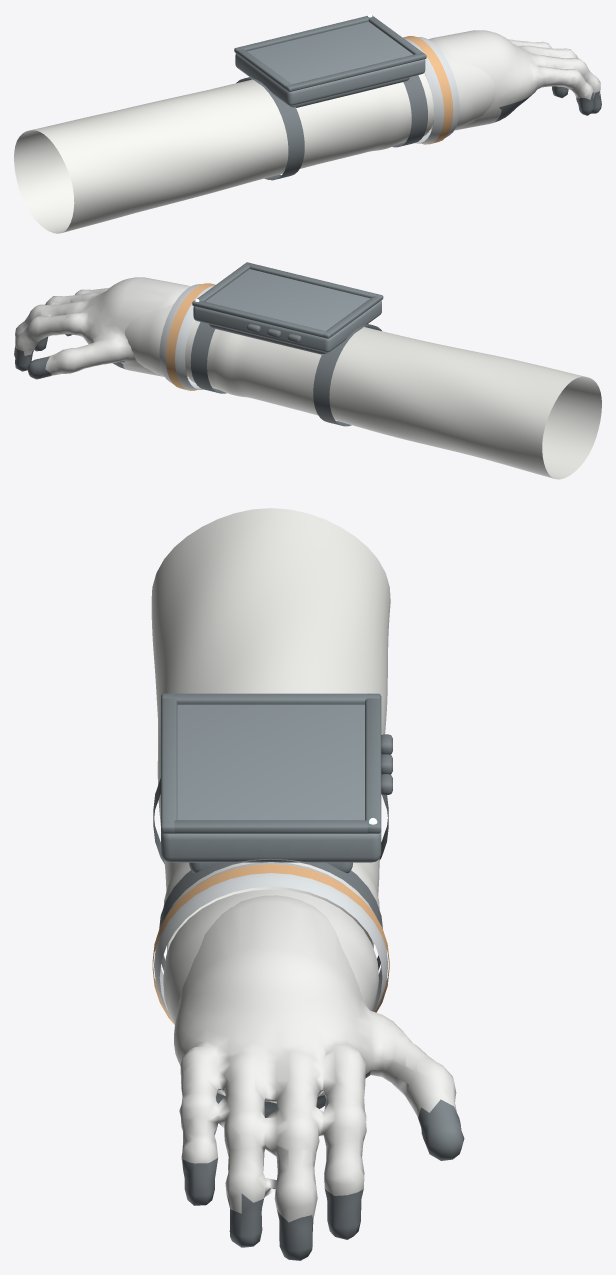
File: wrist_arm.glb
3 views of the same model, one above another, from view 1: azimuth 30°, elevation 25°; view 2: azimuth 150°, elevation 25°; view 3: azimuth 270°, elevation 25° (orthographic). The views are drawn at different scales.
Visible parts, largest first — view 1: sleeve_suit_fabric_white, pad_case_graphite, glove_fabric, glove_fabric.001, wrist_ring_satin_metal, strap_rubber, strap_rubber.001, wrist_band_orange, pad_bezel_graphite.001, pad_bezel_graphite, pad_bezel_graphite.003, pad_bezel_graphite.002 (+1 smaller); view 2: sleeve_suit_fabric_white, glove_fabric, pad_case_graphite, glove_fabric.001, wrist_ring_satin_metal, strap_rubber, strap_rubber.001, wrist_band_orange, pad_bezel_graphite, pad_bezel_graphite.001, pad_bezel_graphite.003, pad_bezel_graphite.002 (+1 smaller); view 3: glove_fabric, sleeve_suit_fabric_white, pad_case_graphite, glove_fabric.001, wrist_ring_satin_metal, pad_bezel_graphite.002, wrist_band_orange, pad_bezel_graphite.003, pad_bezel_graphite.001, pad_bezel_graphite, strap_rubber.001.
Part boxes in pixels (x1,y1,x2,y2): sleeve_suit_fabric_white: [14, 73, 433, 233]; pad_case_graphite: [235, 21, 425, 105]; glove_fabric: [424, 30, 601, 130]; glove_fabric.001: [429, 51, 496, 132]; wrist_ring_satin_metal: [404, 37, 459, 143]; strap_rubber: [236, 77, 304, 180]; strap_rubber.001: [392, 75, 427, 147]; wrist_band_orange: [403, 36, 453, 144]; pad_bezel_graphite.001: [286, 52, 426, 91]; pad_bezel_graphite: [234, 15, 373, 53]; pad_bezel_graphite.003: [236, 48, 293, 89]; pad_bezel_graphite.002: [367, 16, 426, 59]; sleeve_suit_fabric_white: [185, 320, 601, 479]; glove_fabric: [14, 277, 194, 379]; pad_case_graphite: [193, 269, 381, 352]; glove_fabric.001: [124, 286, 190, 379]; wrist_ring_satin_metal: [159, 284, 214, 389]; strap_rubber: [313, 324, 381, 426]; strap_rubber.001: [190, 322, 226, 393]; wrist_band_orange: [166, 283, 215, 390]; pad_bezel_graphite: [192, 300, 332, 338]; pad_bezel_graphite.001: [244, 262, 383, 300]; pad_bezel_graphite.003: [323, 294, 381, 338]; pad_bezel_graphite.002: [193, 264, 249, 306]; glove_fabric: [174, 895, 464, 1260]; sleeve_suit_fabric_white: [151, 508, 390, 952]; pad_case_graphite: [161, 704, 381, 862]; glove_fabric.001: [163, 889, 378, 1024]; wrist_ring_satin_metal: [154, 862, 388, 1020]; pad_bezel_graphite.002: [161, 820, 380, 833]; wrist_band_orange: [152, 864, 389, 1024]; pad_bezel_graphite.003: [161, 693, 380, 704]; pad_bezel_graphite.001: [161, 693, 177, 833]; pad_bezel_graphite: [365, 693, 381, 833]; strap_rubber.001: [159, 858, 382, 970].
Bounding box in the file's own units: 0.5425 × 0.118 × 0.1335.
